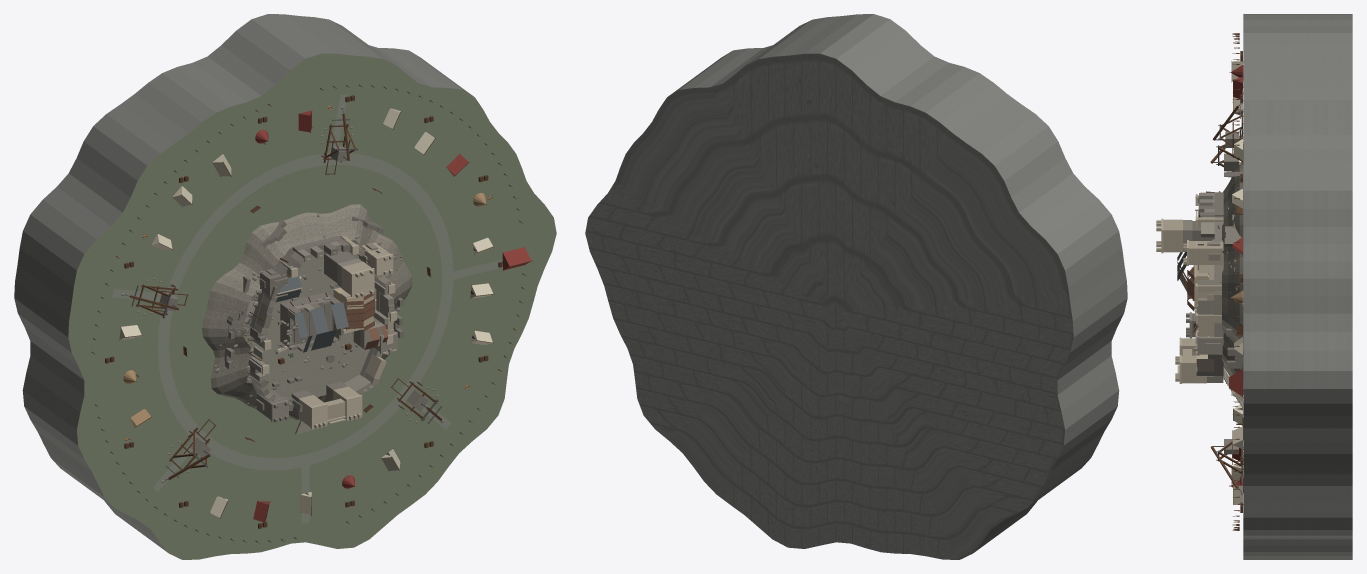
Rendered from Prav_v4_Floating_Fix.glb.
3 renders of one model, left to right at view 1: azimuth 30°, elevation 25°; view 2: azimuth 150°, elevation 25°; view 3: azimuth 270°, elevation 25°, orthographic.
Parts seen in each view (by area): view 1: Prav_camp, Prav_bedrock, Prav_soil, Prav_rubble, Prav_older, Prav_paving, Prav_wood, Prav_trans, Prav_canvas, Prav_fort, Prav_trim, Prav_slate (+2 smaller); view 2: Prav_bedrock; view 3: Prav_bedrock, Prav_fort, Prav_rubble, Prav_trans, Prav_older, Prav_wood, Prav_canvas, Prav_red, Prav_trim, Prav_roof.
Part boxes in pixels (x1,y1,x2,y2): Prav_camp: [68, 53, 556, 559]; Prav_bedrock: [14, 14, 473, 552]; Prav_soil: [112, 94, 502, 523]; Prav_rubble: [121, 106, 443, 482]; Prav_older: [124, 104, 493, 519]; Prav_paving: [252, 251, 376, 434]; Prav_wood: [91, 84, 532, 543]; Prav_trans: [224, 213, 397, 422]; Prav_canvas: [119, 108, 493, 517]; Prav_fort: [298, 236, 394, 428]; Prav_trim: [262, 244, 397, 428]; Prav_slate: [275, 275, 348, 352]; Prav_bedrock: [585, 14, 1127, 559]; Prav_bedrock: [1243, 14, 1352, 559]; Prav_fort: [1156, 217, 1222, 383]; Prav_rubble: [1217, 103, 1243, 494]; Prav_trans: [1183, 190, 1239, 376]; Prav_older: [1186, 89, 1242, 480]; Prav_wood: [1178, 33, 1243, 530]; Prav_canvas: [1232, 61, 1242, 504]; Prav_red: [1229, 65, 1243, 492]; Prav_trim: [1161, 194, 1209, 383]; Prav_roof: [1187, 266, 1197, 335].
Size of the model in its own units: 256 by 251 by 88.03.
20 materials, 20 textured.
